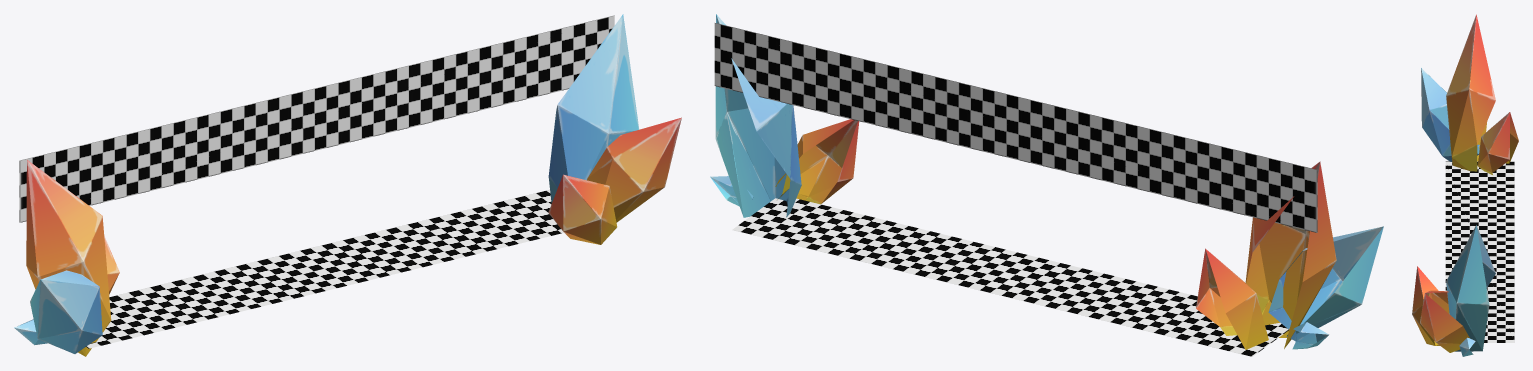
Rendered from BgMD_sano_goal_01_01.fbx.
3 views of the same model, side by side, from view 1: azimuth 30°, elevation 25°; view 2: azimuth 150°, elevation 25°; view 3: azimuth 270°, elevation 25° (orthographic). The views are drawn at different scales.
Parts seen in each view (by area): view 1: pPlane1, pPlane2, pCube4, pCube7, pCube6; view 2: pPlane1, pPlane2, pCube4, pCube6, pCube7, pCube5; view 3: pCube4, pPlane2, pCube7, pCube6, pCube5.
Part boxes in pixels (x1,y1,x2,y2): pPlane1: (19, 15, 614, 222); pPlane2: (86, 189, 563, 348); pCube4: (26, 14, 639, 356); pCube7: (30, 117, 681, 353); pCube6: (104, 174, 617, 294); pPlane1: (714, 23, 1317, 232); pPlane2: (732, 198, 1289, 356); pCube4: (715, 14, 1336, 348); pCube6: (775, 119, 1268, 349); pCube7: (777, 175, 1383, 333); pCube5: (710, 176, 1328, 349); pCube4: (1446, 14, 1495, 351); pPlane2: (1445, 161, 1514, 342); pCube7: (1420, 68, 1473, 352); pCube6: (1412, 112, 1518, 345); pCube5: (1459, 144, 1479, 356).
Size of the model in its own units: 1881 by 548 by 374.
